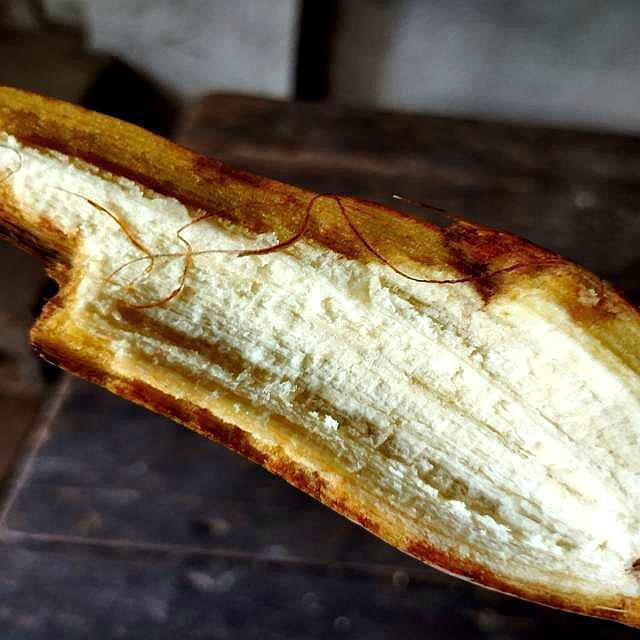Biodegradable: (1, 70, 638, 640)
